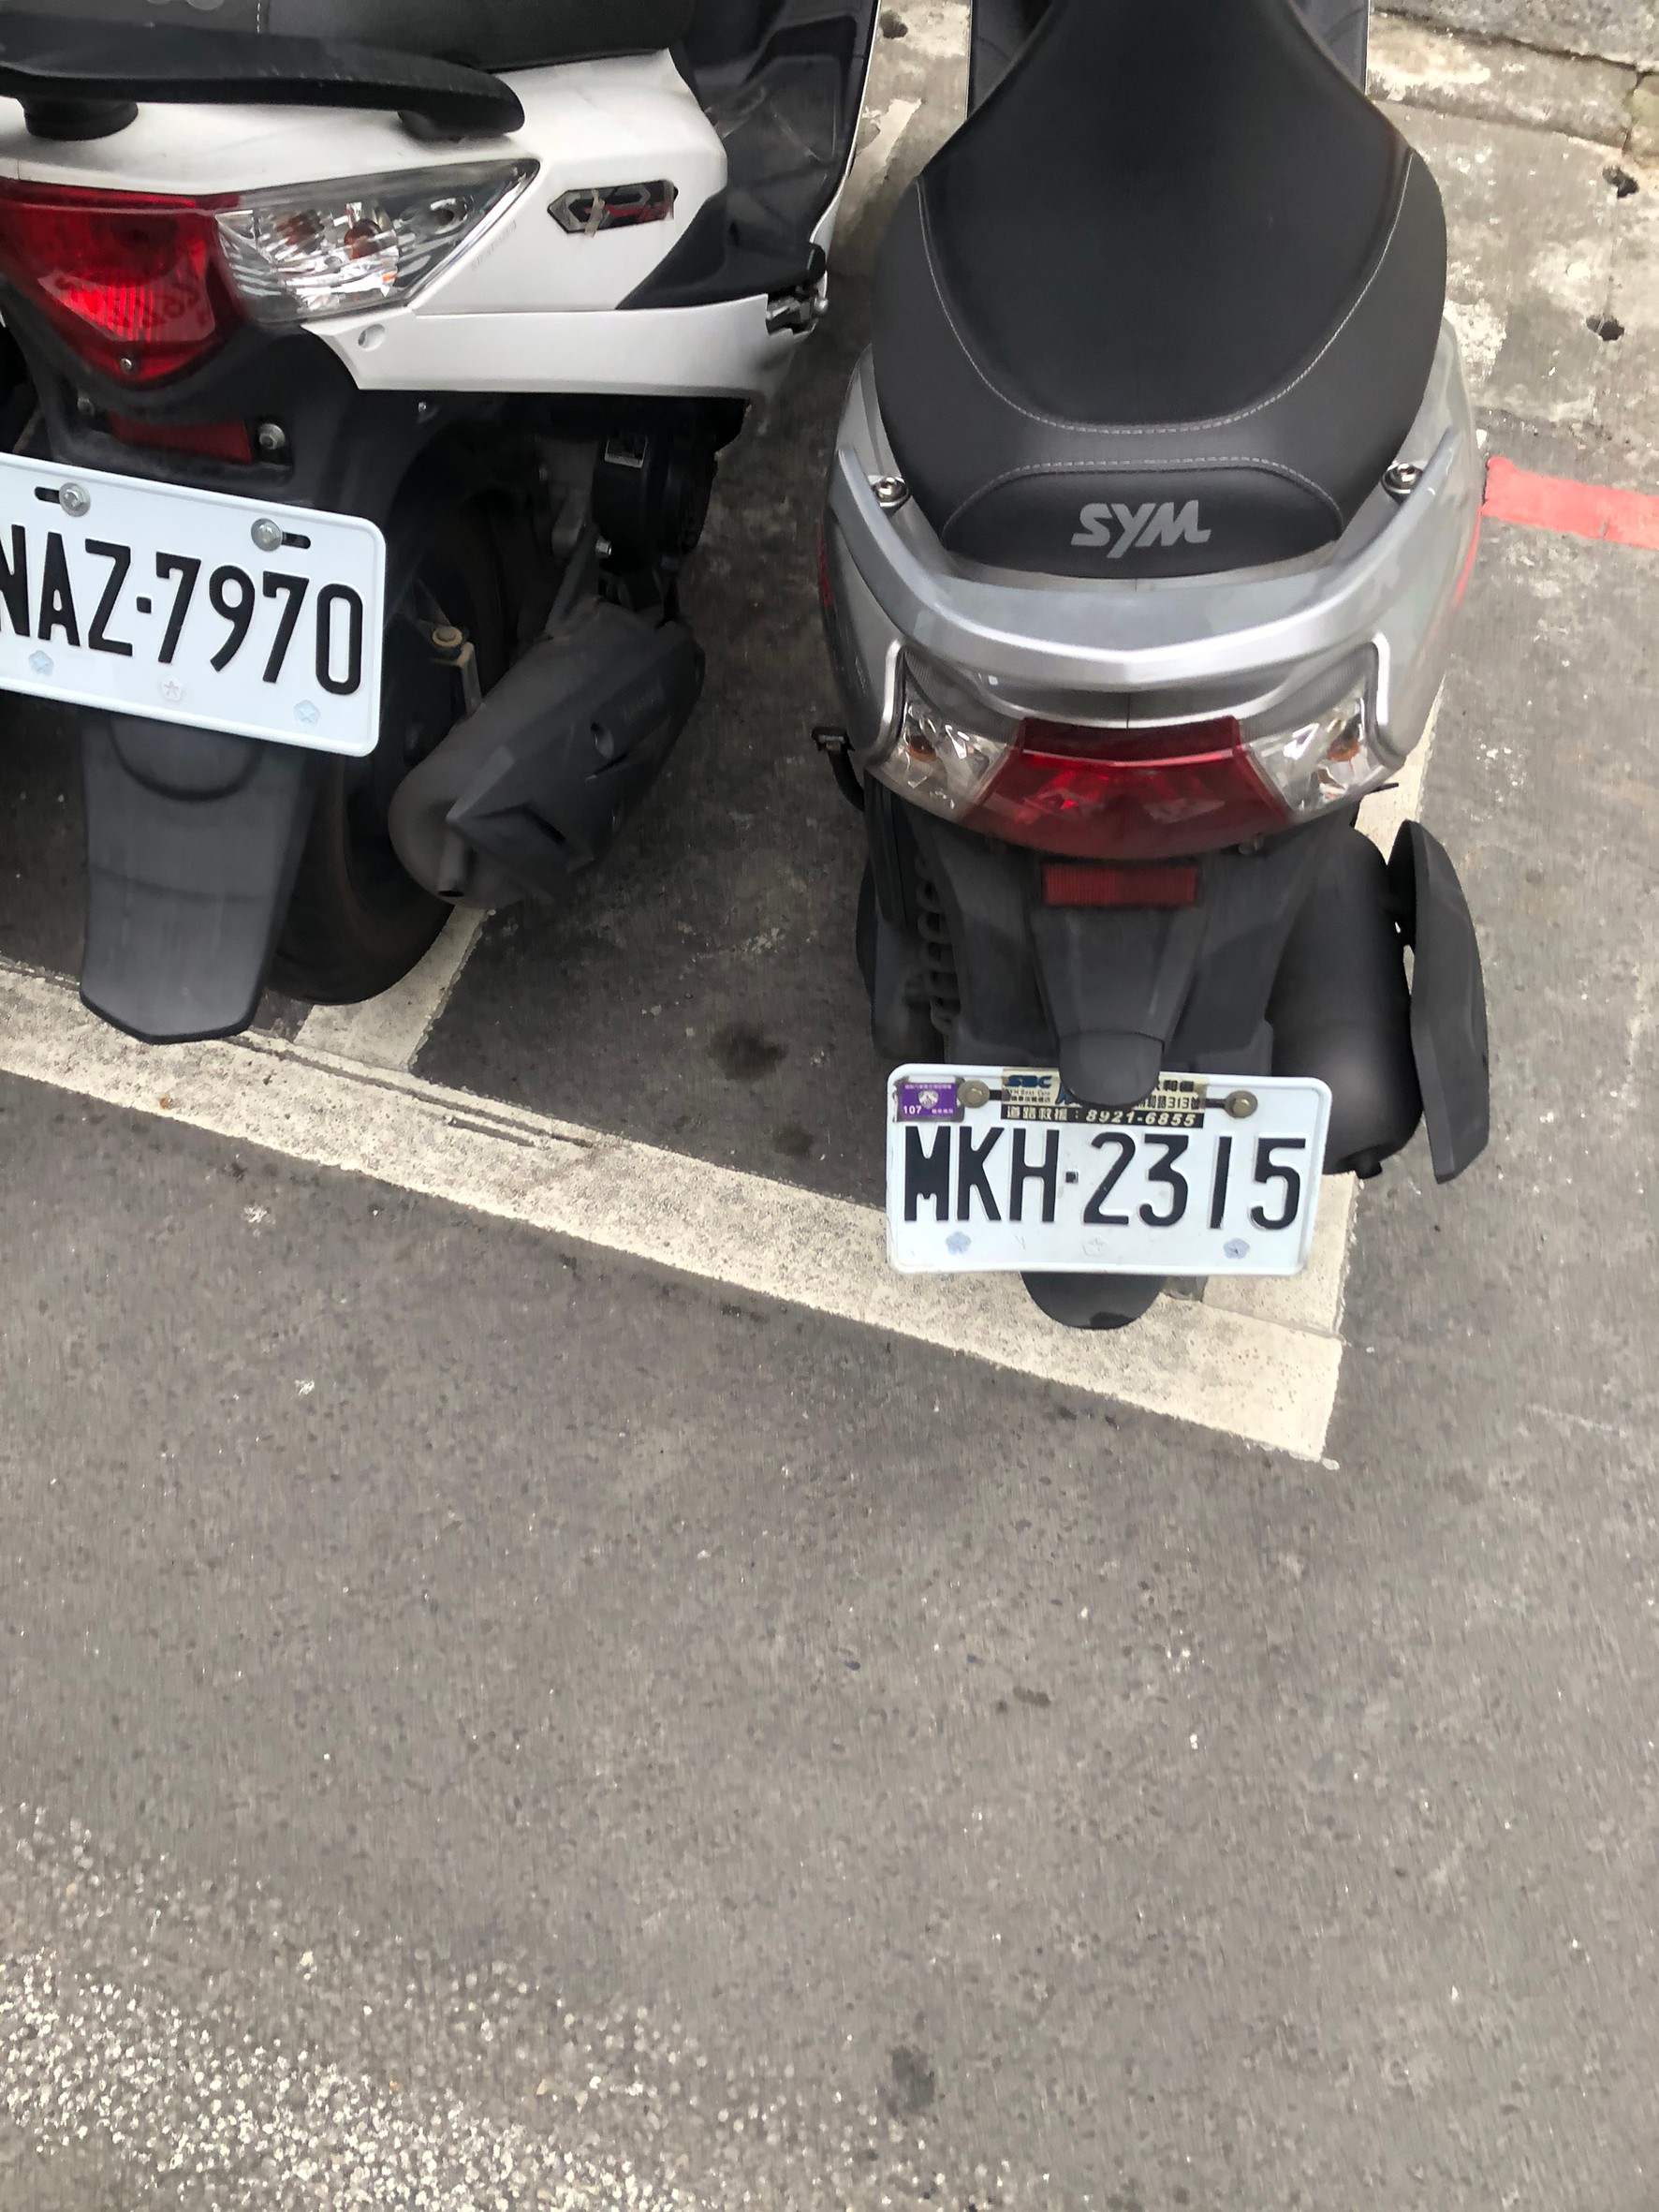LP: (2, 457, 390, 760), (884, 1062, 1330, 1283)
